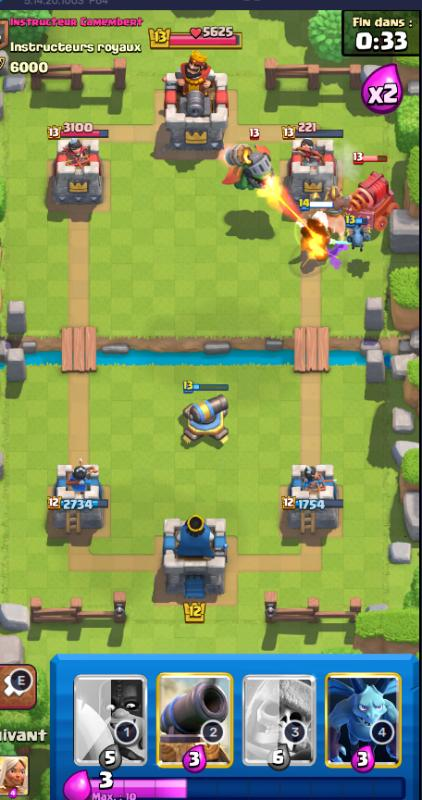gargouille: (345, 214, 373, 249)
zappy: (350, 174, 395, 240)
